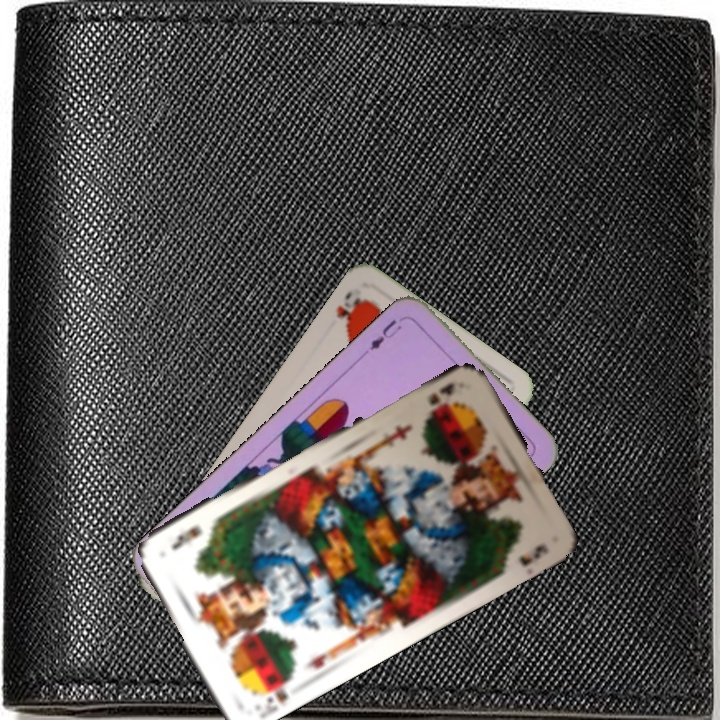EU: (365, 315, 405, 353)
HO: (332, 286, 367, 329)
SK: (261, 672, 294, 711), (424, 378, 458, 408)
